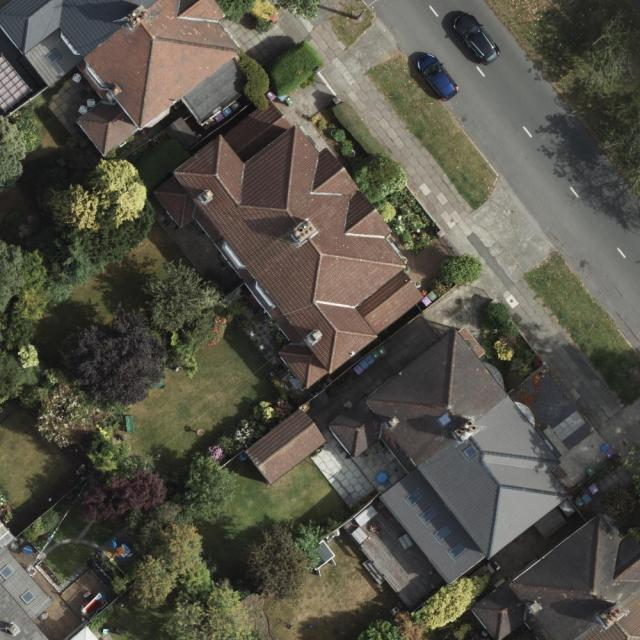roof: (155, 95, 428, 389), (328, 323, 571, 585), (0, 0, 257, 155), (473, 509, 640, 640), (246, 405, 329, 488), (0, 518, 53, 640)
skylight: (434, 409, 454, 430), (461, 442, 481, 462), (419, 506, 439, 525), (432, 524, 452, 543), (448, 540, 468, 559), (43, 48, 63, 67), (406, 488, 425, 507), (19, 589, 35, 605), (0, 564, 15, 581)
